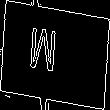M_S: (40, 28, 70, 82)
